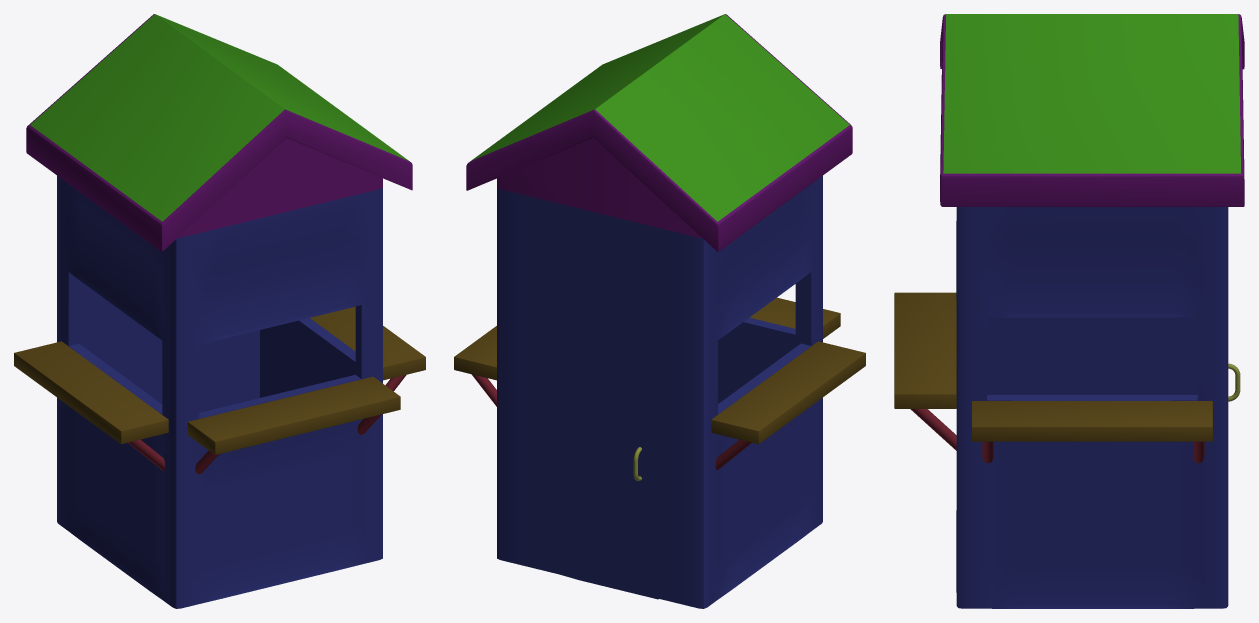
3 renders of one model, left to right at view 1: azimuth 30°, elevation 25°; view 2: azimuth 150°, elevation 25°; view 3: azimuth 270°, elevation 25°, orthographic. The views are drawn at different scales.
Visible parts, largest first — view 1: Box001; view 2: Box001; view 3: Box001.
Boxes of the visible parts, bbox=[...] form: Box001: bbox=[14, 14, 425, 608]; Box001: bbox=[454, 14, 865, 608]; Box001: bbox=[894, 14, 1244, 608].
Bounding box in the file's own units: 88.41 × 133 × 78.19.
